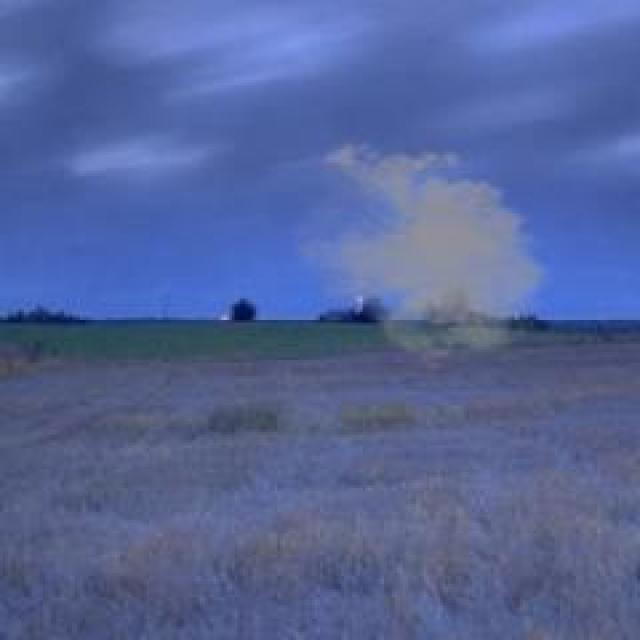Smoke: (305, 142, 540, 376)
